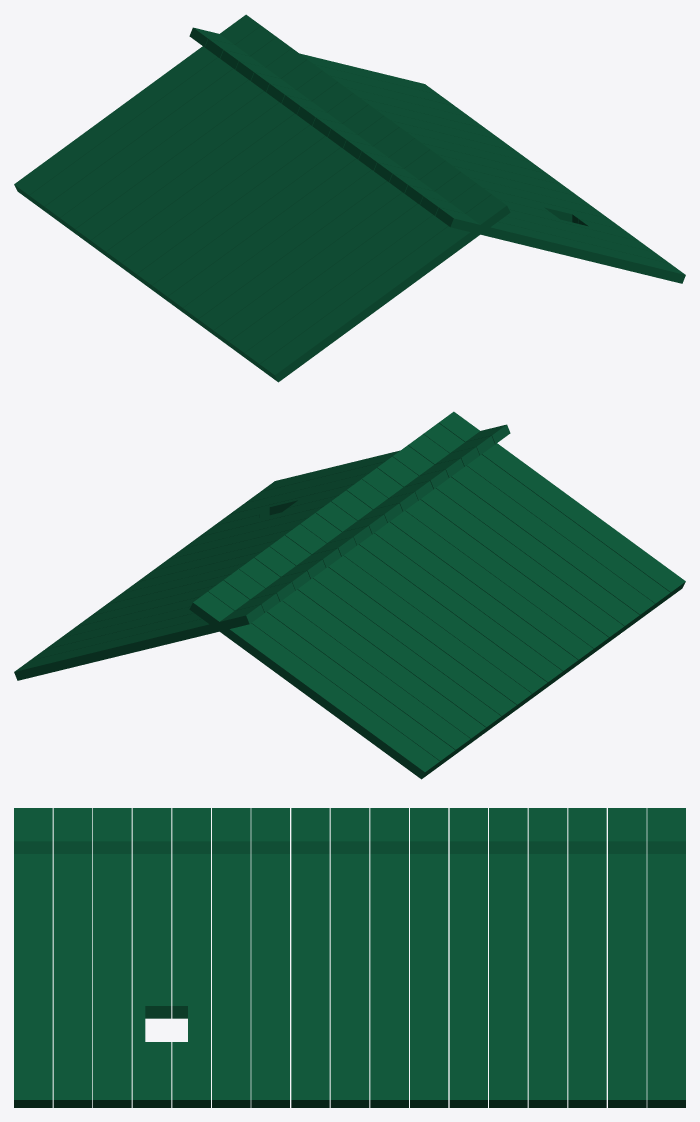
The model's file is Roof.fbx.
The picture shows the model from 3 angles, top to bottom: view 1: azimuth 30°, elevation 25°; view 2: azimuth 150°, elevation 25°; view 3: azimuth 270°, elevation 25°; orthographic projection. The views are drawn at different scales.
Parts seen in each view (by area): view 1: Roof; view 2: Roof; view 3: Roof.
Part boxes in pixels (<box>): Roof: <box>14,14,685,382</box>; Roof: <box>14,411,685,779</box>; Roof: <box>14,808,685,1107</box>.
Bounding box in the file's own units: 3.63 × 1.02 × 3.99.
